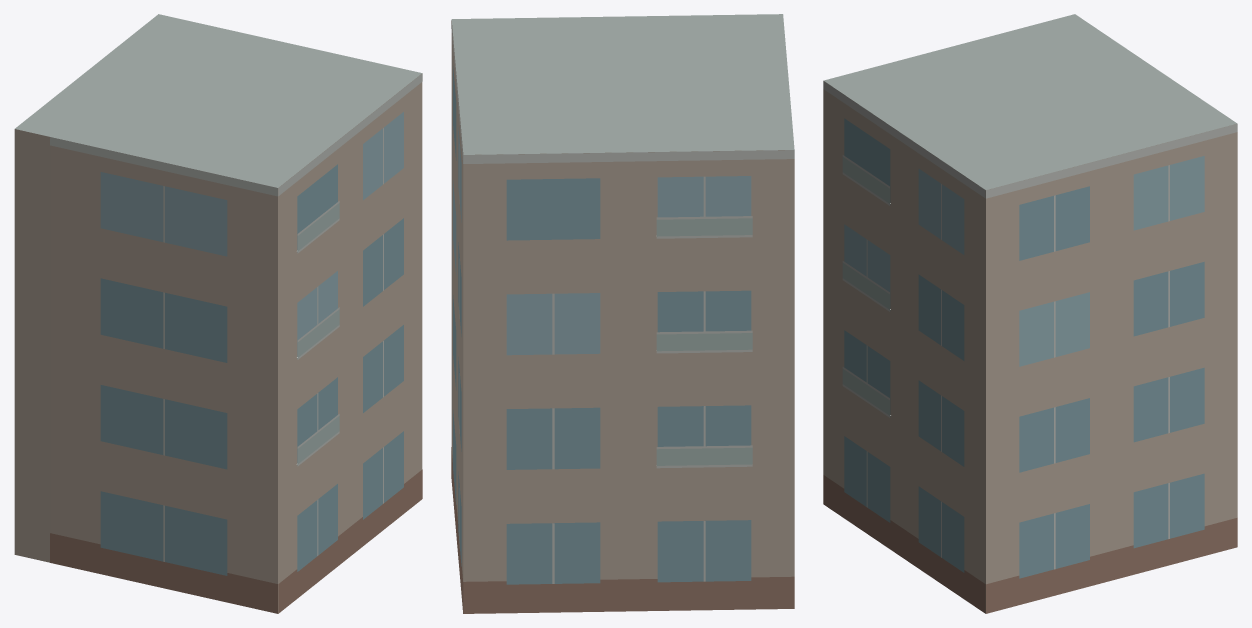
The model's file is residential-a2ce579c-73cd-441a-a6a9-05ea639b622b.glb.
The picture shows the model from 3 angles, left to right: view 1: azimuth 30°, elevation 25°; view 2: azimuth 150°, elevation 25°; view 3: azimuth 270°, elevation 25°; orthographic projection. The views are drawn at different scales.
Visible parts, largest first — view 1: residential-a2ce579c-73cd-441a-a6a9-05ea639b622b.tmp; view 2: residential-a2ce579c-73cd-441a-a6a9-05ea639b622b.tmp; view 3: residential-a2ce579c-73cd-441a-a6a9-05ea639b622b.tmp.
Boxes of the visible parts, bbox=[...] form: residential-a2ce579c-73cd-441a-a6a9-05ea639b622b.tmp: bbox=[14, 14, 422, 613]; residential-a2ce579c-73cd-441a-a6a9-05ea639b622b.tmp: bbox=[451, 14, 794, 613]; residential-a2ce579c-73cd-441a-a6a9-05ea639b622b.tmp: bbox=[823, 14, 1237, 613].
Size of the model in its own units: 10.89 by 12.2 by 10.82.
